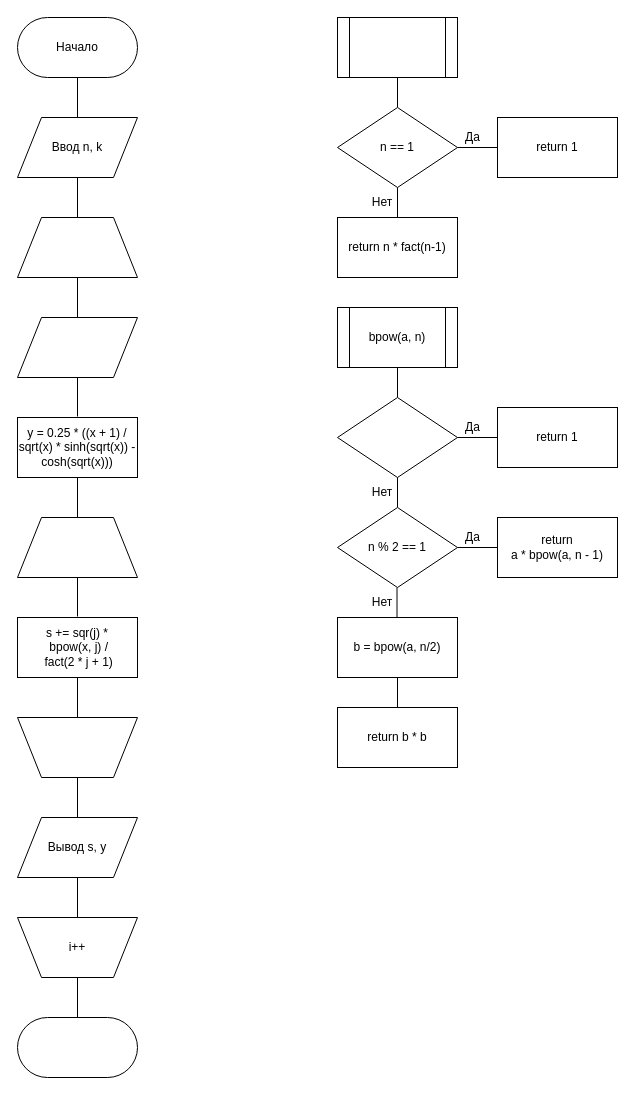
The diagram is 635 pixels wide and 1095 high, and some of its shapes have lost their labels. The shapes that lost their labels are listed below. From the top down, each one's box as (x1, y1, x2, y2) in pixels, then its label:
(336, 16, 458, 78): fact(n)
(16, 216, 138, 278): i = 0 i < k
(16, 316, 138, 378): Ввод x
(336, 396, 458, 478): n == 0
(16, 516, 138, 578): j = 1 j <= n
(16, 716, 138, 778): j++
(16, 1016, 138, 1078): Конец
